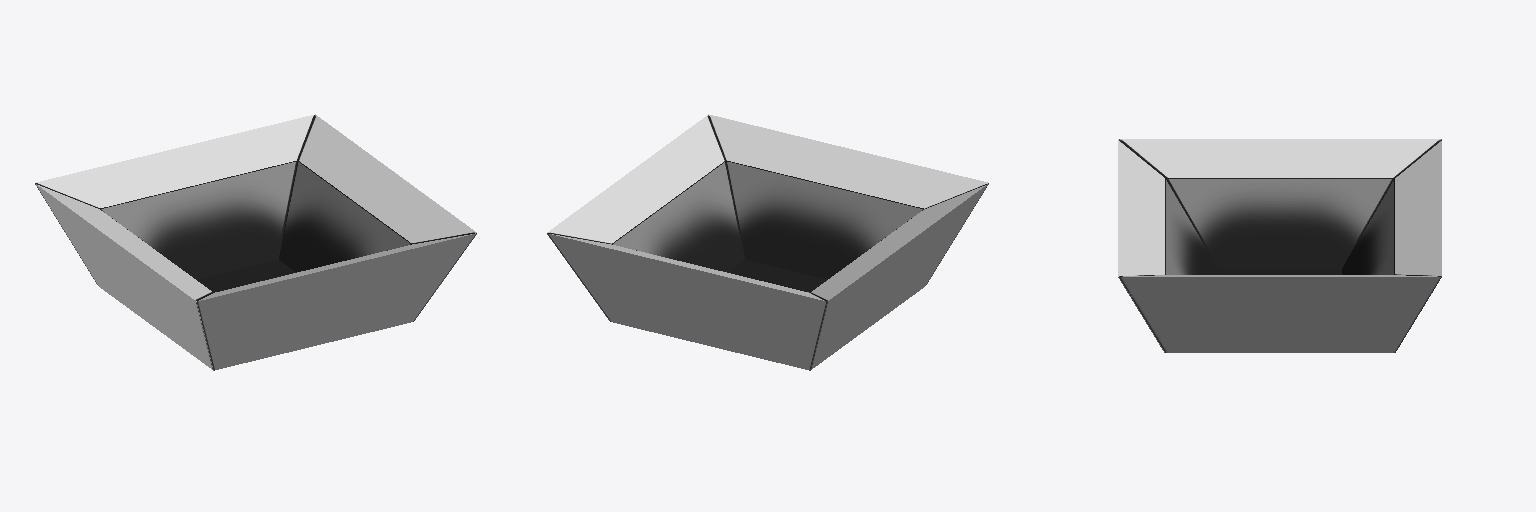
3 views of the same model, side by side, from view 1: azimuth 30°, elevation 25°; view 2: azimuth 150°, elevation 25°; view 3: azimuth 270°, elevation 25° (orthographic).
Parts seen in each view (by area): view 1: torch; view 2: torch; view 3: torch.
Boxes of the visible parts, box(x1,y1,x2,y2) form: torch: box(35, 114, 476, 370); torch: box(547, 114, 988, 370); torch: box(1118, 139, 1441, 352).
Size of the model in its own units: 0.597 by 0.1949 by 0.597.
1 materials, 1 textured.